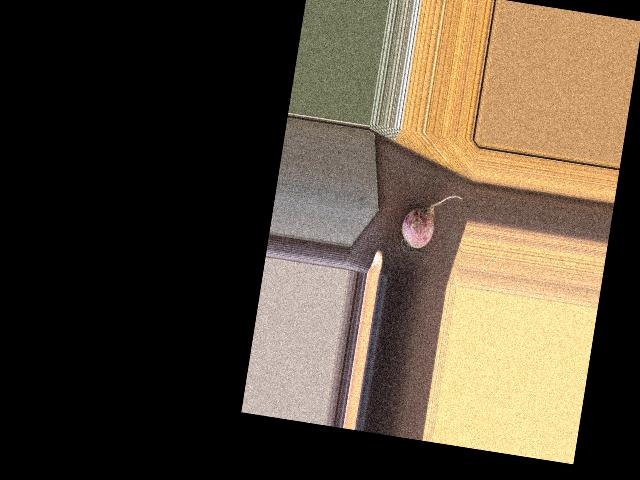beet: (397, 187, 462, 264)
